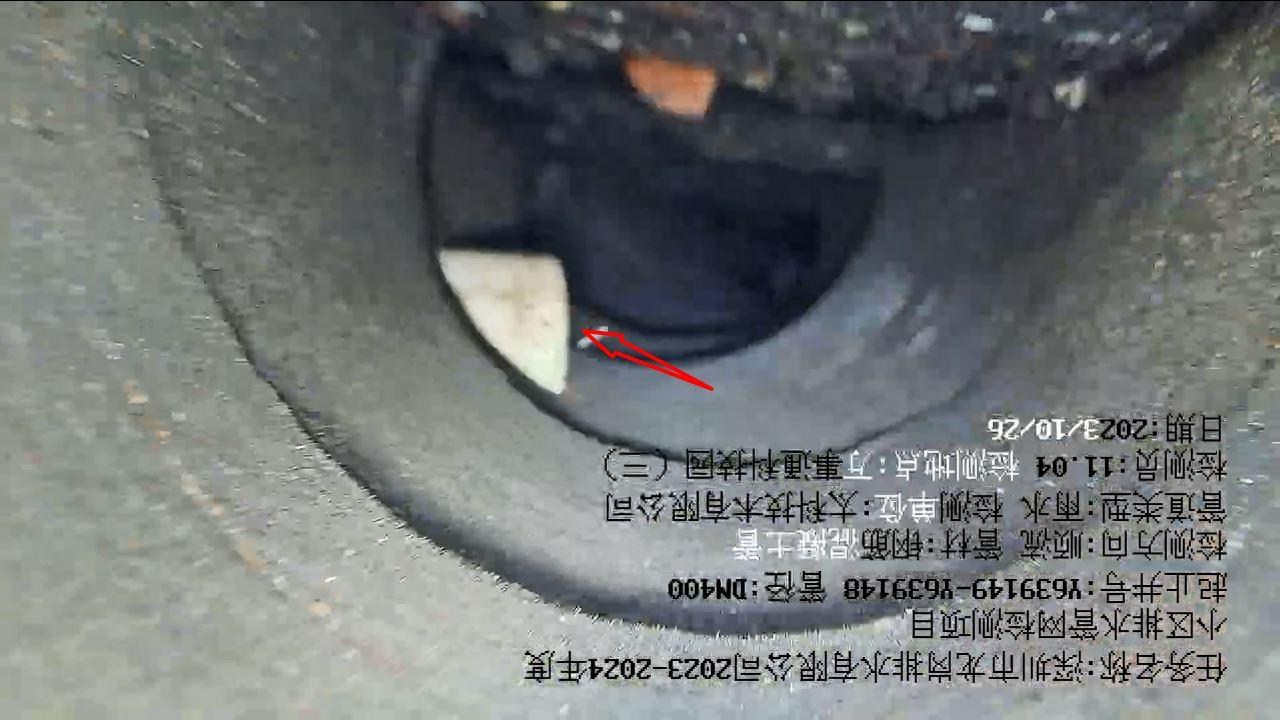CJ: (440, 1, 1218, 123)
ZGAJ: (438, 248, 571, 394)
